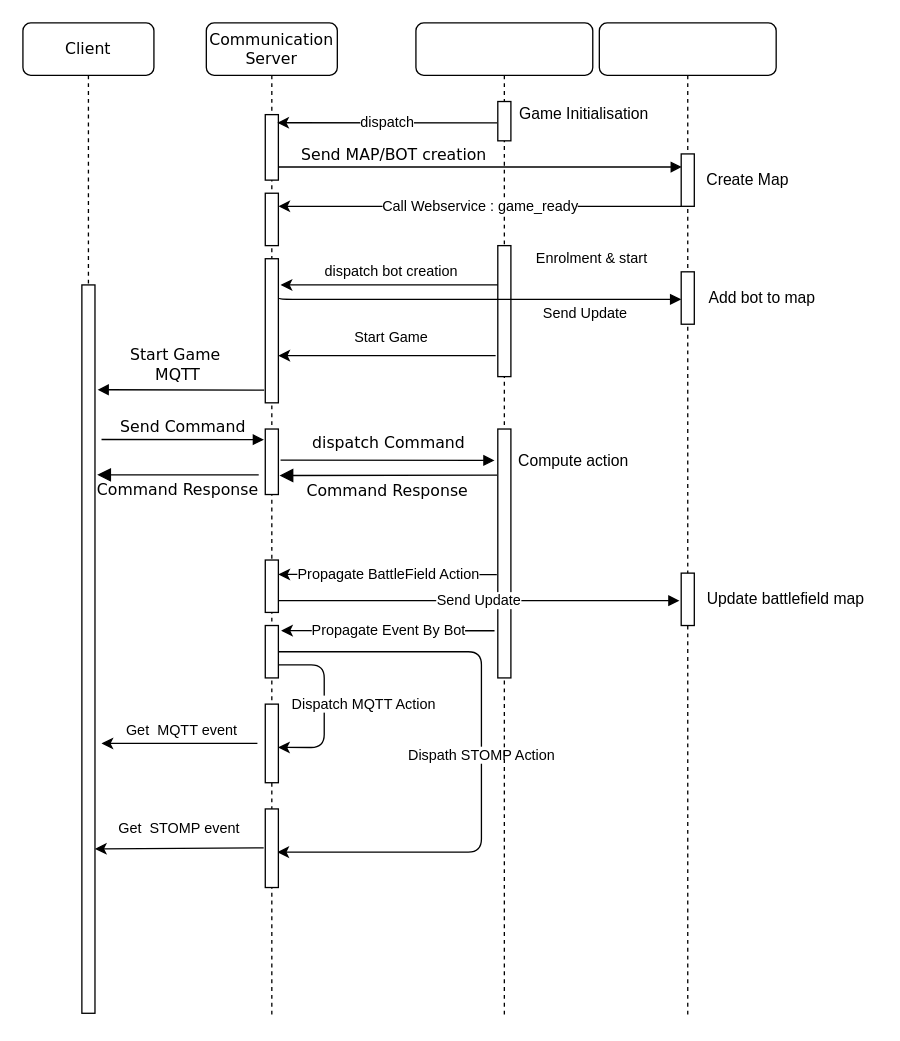
The diagram is 900 pixels wide and 1041 high, and some of its shapes have lost their labels. The shapes that lost their labels are listed below. From the top down, each one's box as (x1, y1, x2, y2) in pixels, then its label:
(415, 22, 593, 1019): Game Manager
(598, 22, 776, 1019): BattleField IHM
